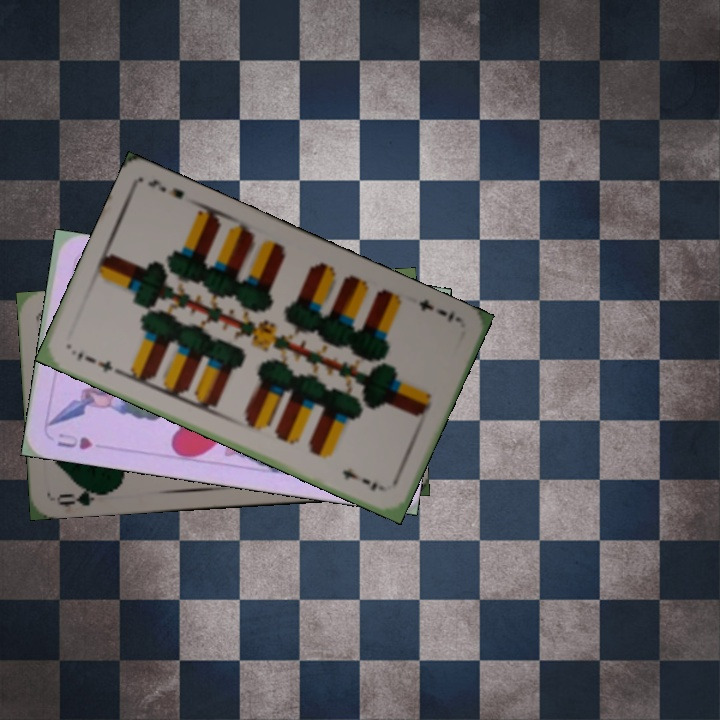E7: (72, 346, 123, 377), (414, 295, 458, 325)
GO: (54, 482, 112, 509)
HU: (53, 429, 95, 452)
